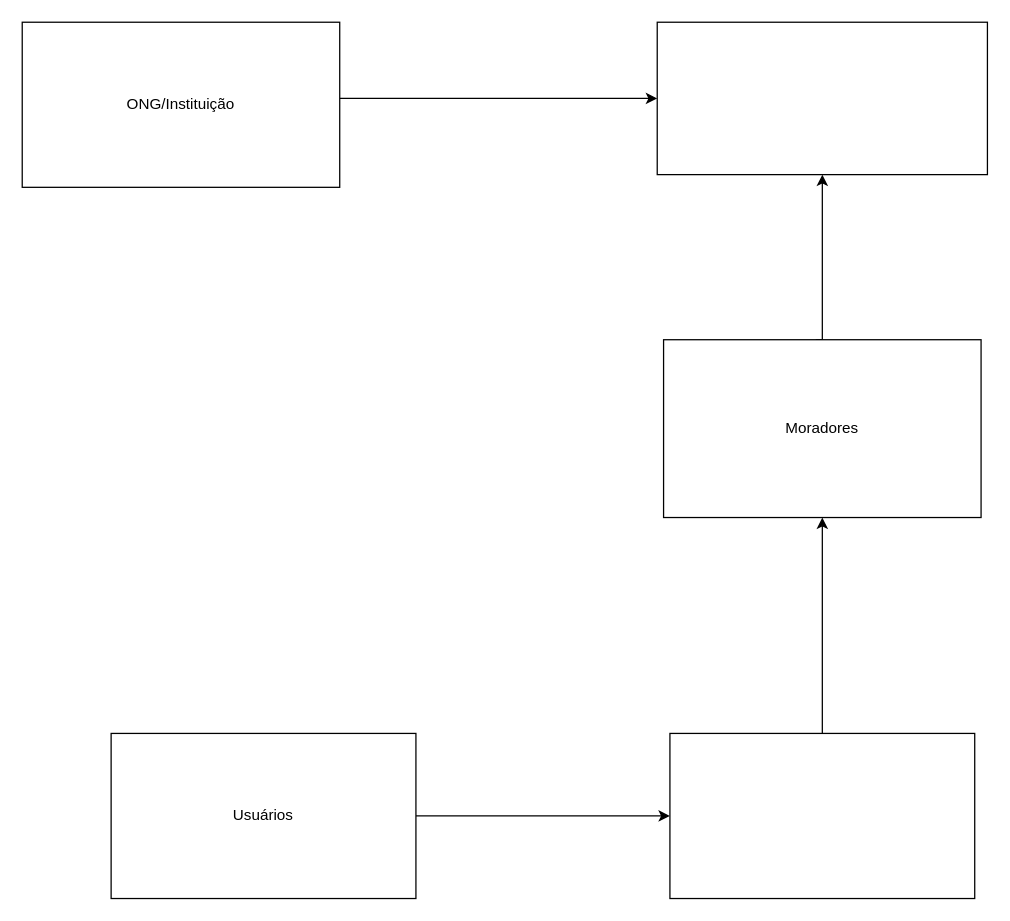
The diagram is 1010 pixels wide and 921 high, and some of its shapes have lost their labels. The shapes that lost their labels are listed below. From the top down, each one's centre as x and y in pixels, then its label:
At pixel 821 98: "Administrador".
At pixel 822 815: "Comentário".
